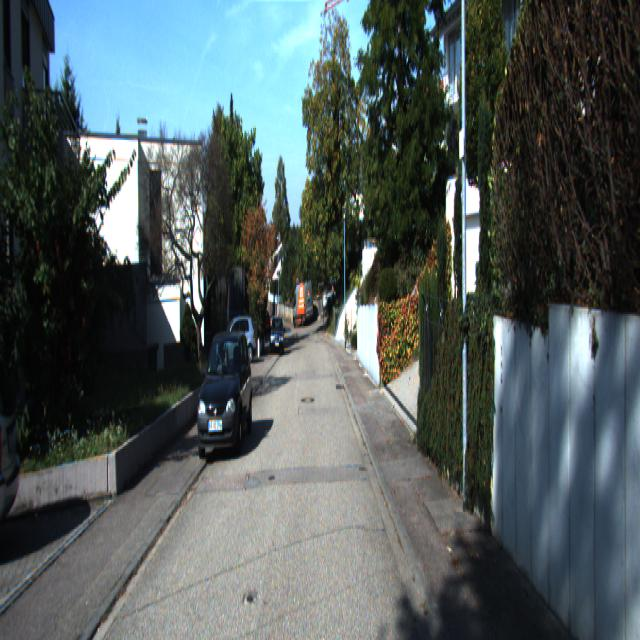Car: (194, 328, 255, 462), (214, 314, 258, 367), (293, 276, 314, 324), (270, 316, 284, 356)
